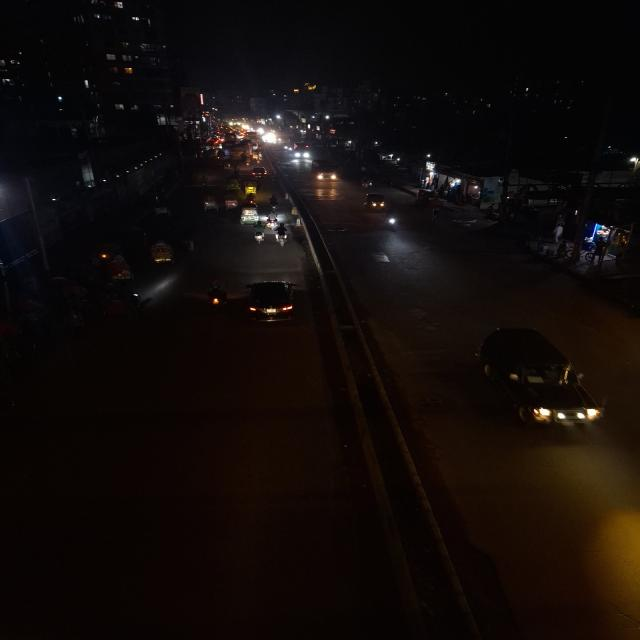bicycle: (429, 204, 443, 231)
bus: (310, 158, 340, 183), (290, 142, 311, 159)
car: (466, 322, 611, 435), (243, 277, 304, 326), (248, 165, 269, 179)
cng: (142, 234, 182, 272), (361, 191, 389, 213), (200, 190, 221, 216), (238, 205, 259, 227), (221, 191, 240, 213), (242, 180, 259, 199), (248, 165, 269, 180), (250, 148, 263, 164)
motorcycle: (202, 278, 231, 314), (383, 208, 402, 234), (272, 224, 290, 249)
rickshaw: (47, 273, 147, 323), (142, 235, 180, 272)
